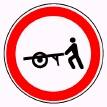Transito proibido a carros de mao: (4, 4, 103, 103)
